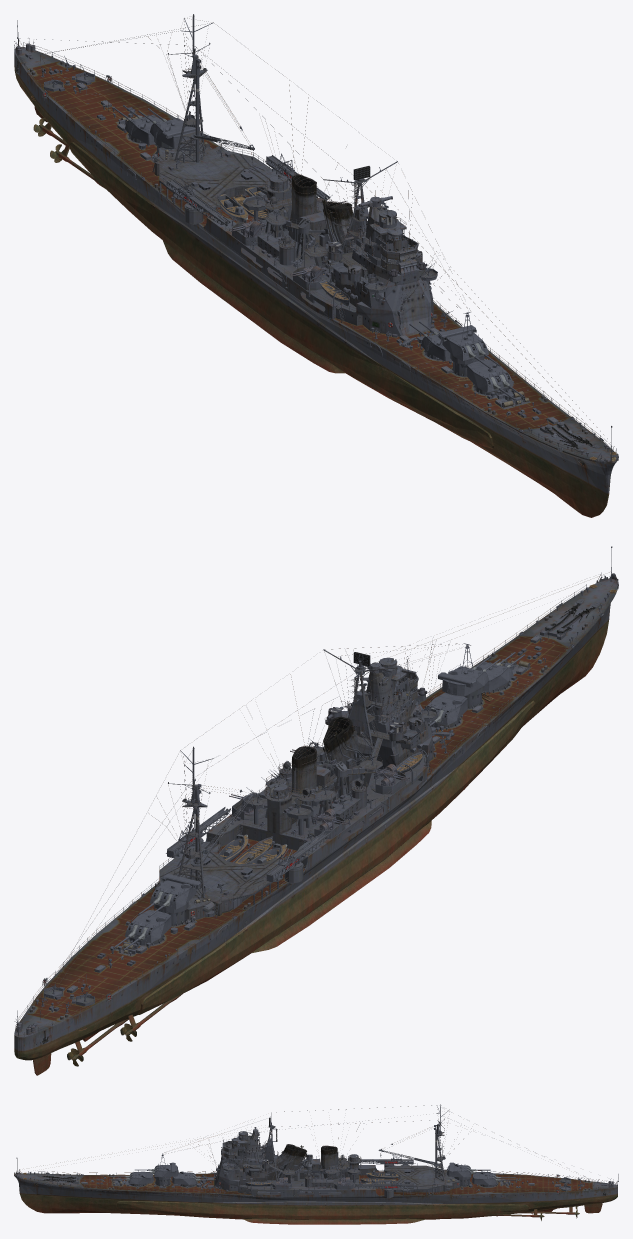
Rendered from atago.glb.
3 views of the same model, one above another, from view 1: azimuth 30°, elevation 25°; view 2: azimuth 150°, elevation 25°; view 3: azimuth 270°, elevation 25° (orthographic). The views are drawn at different scales.
Visible parts, largest first — view 1: MidBackShape, MidFrontShape, MidFront_DeckHouseShape, BowShape, MidBack_DeckHouseShape, SternShape, MidFront_patch_MidBackShape, MidBack_patch_SternShape, MidFront_patch_MidBack_DeckHouseShape, TurretShape7, MidFront_wireShape, Bow_patch_MidFrontShape (+5 smaller); view 2: MidBackShape, MidFrontShape, MidFront_DeckHouseShape, MidBack_DeckHouseShape, BowShape, SternShape, MidFront_patch_MidBackShape, MidBack_patch_SternShape, MidBack_wireShape, MidFront_patch_MidBack_DeckHouseShape, TurretShape8, TurretShape7 (+7 smaller); view 3: MidBackShape, MidFrontShape, BowShape, MidFront_DeckHouseShape, MidBack_DeckHouseShape, SternShape, MidFront_patch_MidBackShape, MidBack_patch_SternShape, MidFront_patch_MidBack_DeckHouseShape, Bow_patch_MidFrontShape, TurretShape8, TurretShape7 (+8 smaller).
Boxes of the visible parts, <box> form: MidBackShape: <box>70,15,318,324</box>; MidFrontShape: <box>278,207,533,452</box>; MidFront_DeckHouseShape: <box>293,161,437,336</box>; BowShape: <box>485,399,618,517</box>; MidBack_DeckHouseShape: <box>154,145,323,253</box>; SternShape: <box>14,20,126,145</box>; MidFront_patch_MidBackShape: <box>257,247,333,342</box>; MidBack_patch_SternShape: <box>58,91,144,163</box>; MidFront_patch_MidBack_DeckHouseShape: <box>270,208,334,265</box>; TurretShape7: <box>438,325,500,368</box>; MidFront_wireShape: <box>279,163,525,396</box>; Bow_patch_MidFrontShape: <box>470,388,545,462</box>; MidBackShape: <box>71,748,365,1021</box>; MidFrontShape: <box>309,643,534,867</box>; MidFront_DeckHouseShape: <box>311,649,437,794</box>; MidBack_DeckHouseShape: <box>154,746,352,920</box>; BowShape: <box>486,547,618,721</box>; SternShape: <box>14,970,127,1075</box>; MidFront_patch_MidBackShape: <box>317,790,389,884</box>; MidBack_patch_SternShape: <box>60,957,145,1034</box>; MidBack_wireShape: <box>79,745,357,968</box>; MidFront_patch_MidBack_DeckHouseShape: <box>279,747,366,814</box>; TurretShape8: <box>138,874,200,917</box>; TurretShape7: <box>438,656,500,696</box>; MidBackShape: <box>320,1105,528,1224</box>; MidFrontShape: <box>127,1132,301,1224</box>; BowShape: <box>14,1158,113,1213</box>; MidFront_DeckHouseShape: <box>214,1112,306,1191</box>; MidBack_DeckHouseShape: <box>320,1146,460,1195</box>; SternShape: <box>541,1174,618,1214</box>; MidFront_patch_MidBackShape: <box>297,1165,320,1224</box>; MidBack_patch_SternShape: <box>526,1175,541,1217</box>; MidFront_patch_MidBack_DeckHouseShape: <box>298,1153,321,1187</box>; Bow_patch_MidFrontShape: <box>113,1175,127,1213</box>; TurretShape8: <box>446,1162,490,1177</box>; TurretShape7: <box>134,1162,178,1177</box>.
Bounding box in the file's own units: 15.49 × 27.25 × 136.
75 materials, 75 textured.
